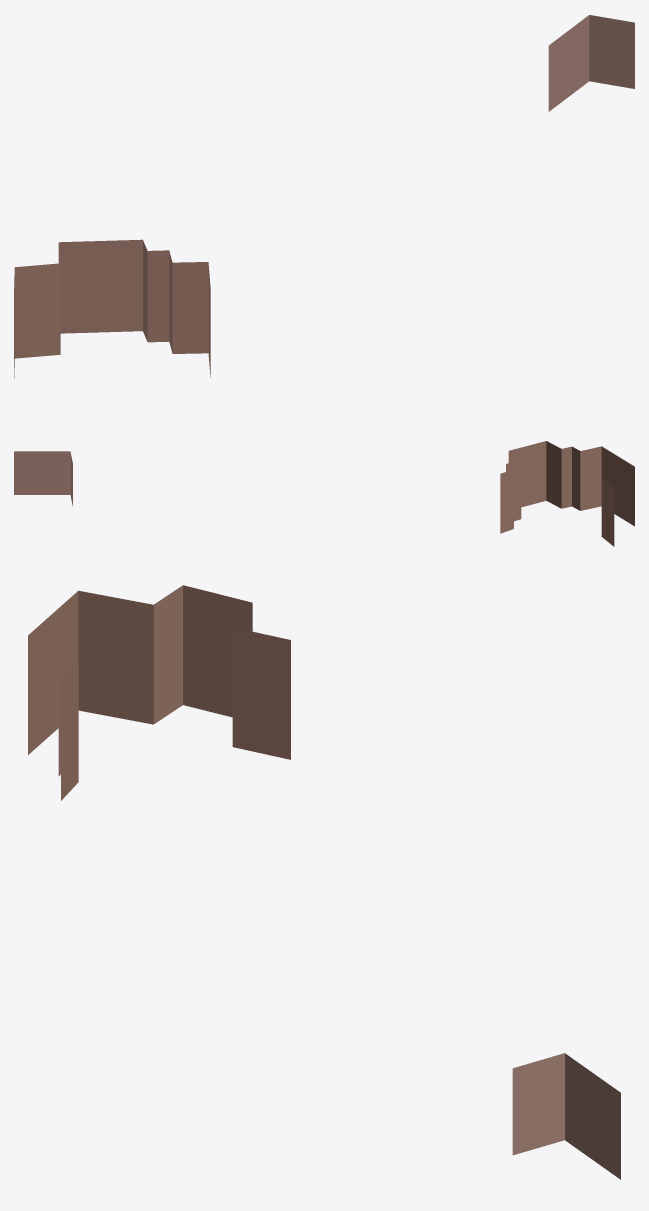
File: c_1643_17832_buildings_residential.glb
3 views of the same model, one above another, from view 1: azimuth 30°, elevation 25°; view 2: azimuth 150°, elevation 25°; view 3: azimuth 270°, elevation 25° (orthographic). The views are drawn at different scales.
Parts seen in each view (by area): view 1: geometry_0; view 2: geometry_0; view 3: geometry_0.
Boxes of the visible parts, box(x1,y1,x2,y2) form: geometry_0: box(14, 15, 634, 378); geometry_0: box(14, 441, 634, 546); geometry_0: box(28, 585, 620, 1179).
Size of the model in its own units: 96.75 by 11.08 by 49.29.
